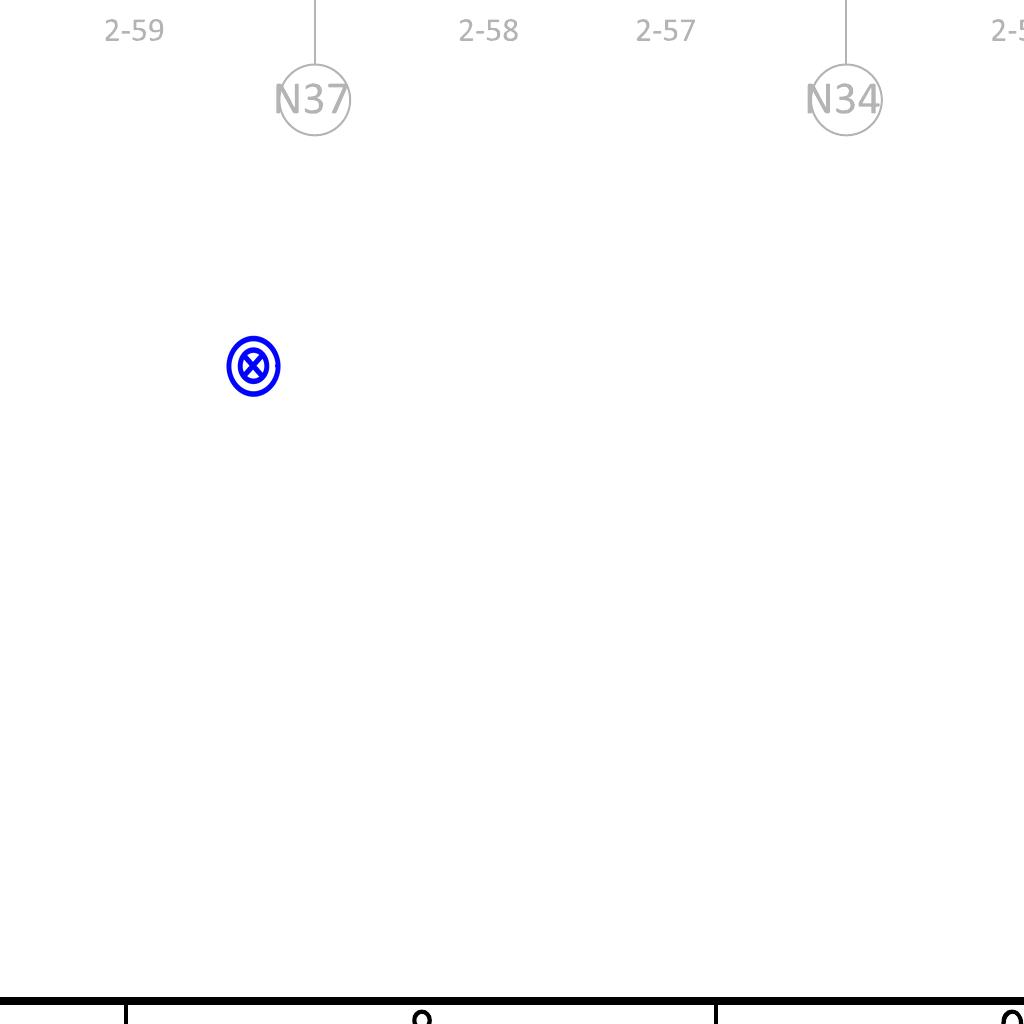Taster_beleuchtet: (220, 333, 286, 399)
